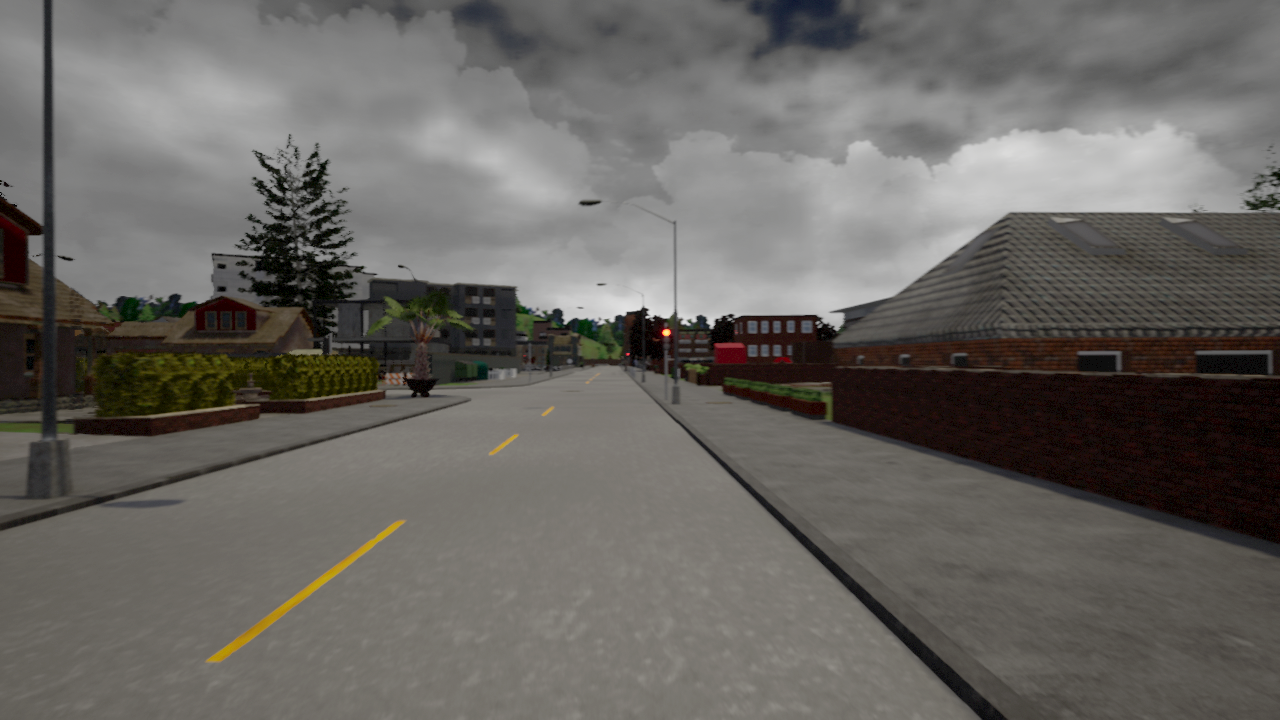red: (661, 327, 671, 349)
